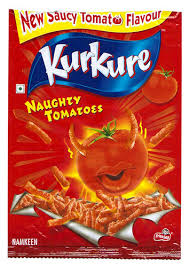kurkure: (37, 33, 155, 93)
